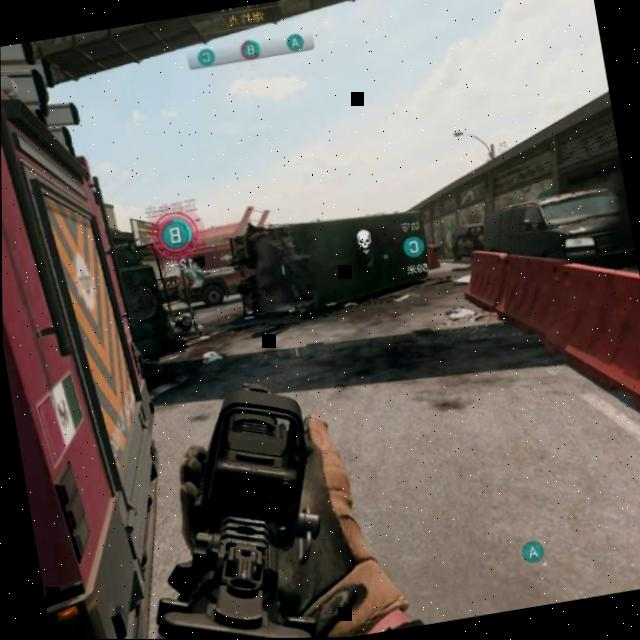MW2_body: (170, 309, 206, 341)
